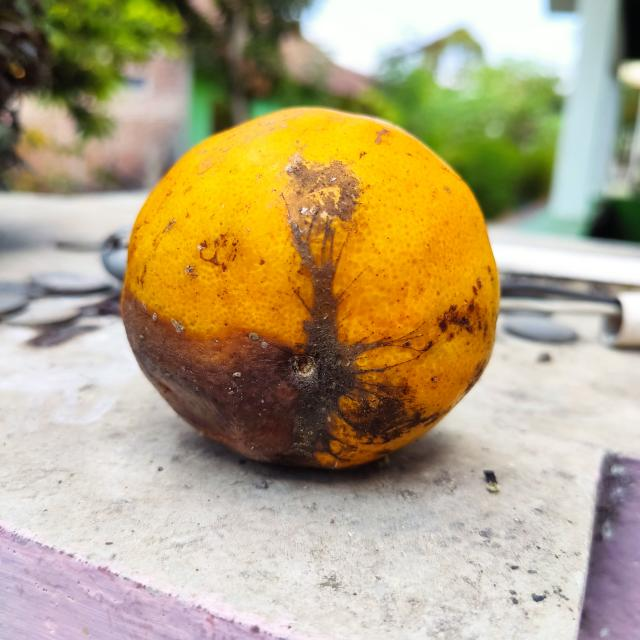orange: (113, 104, 501, 474)
